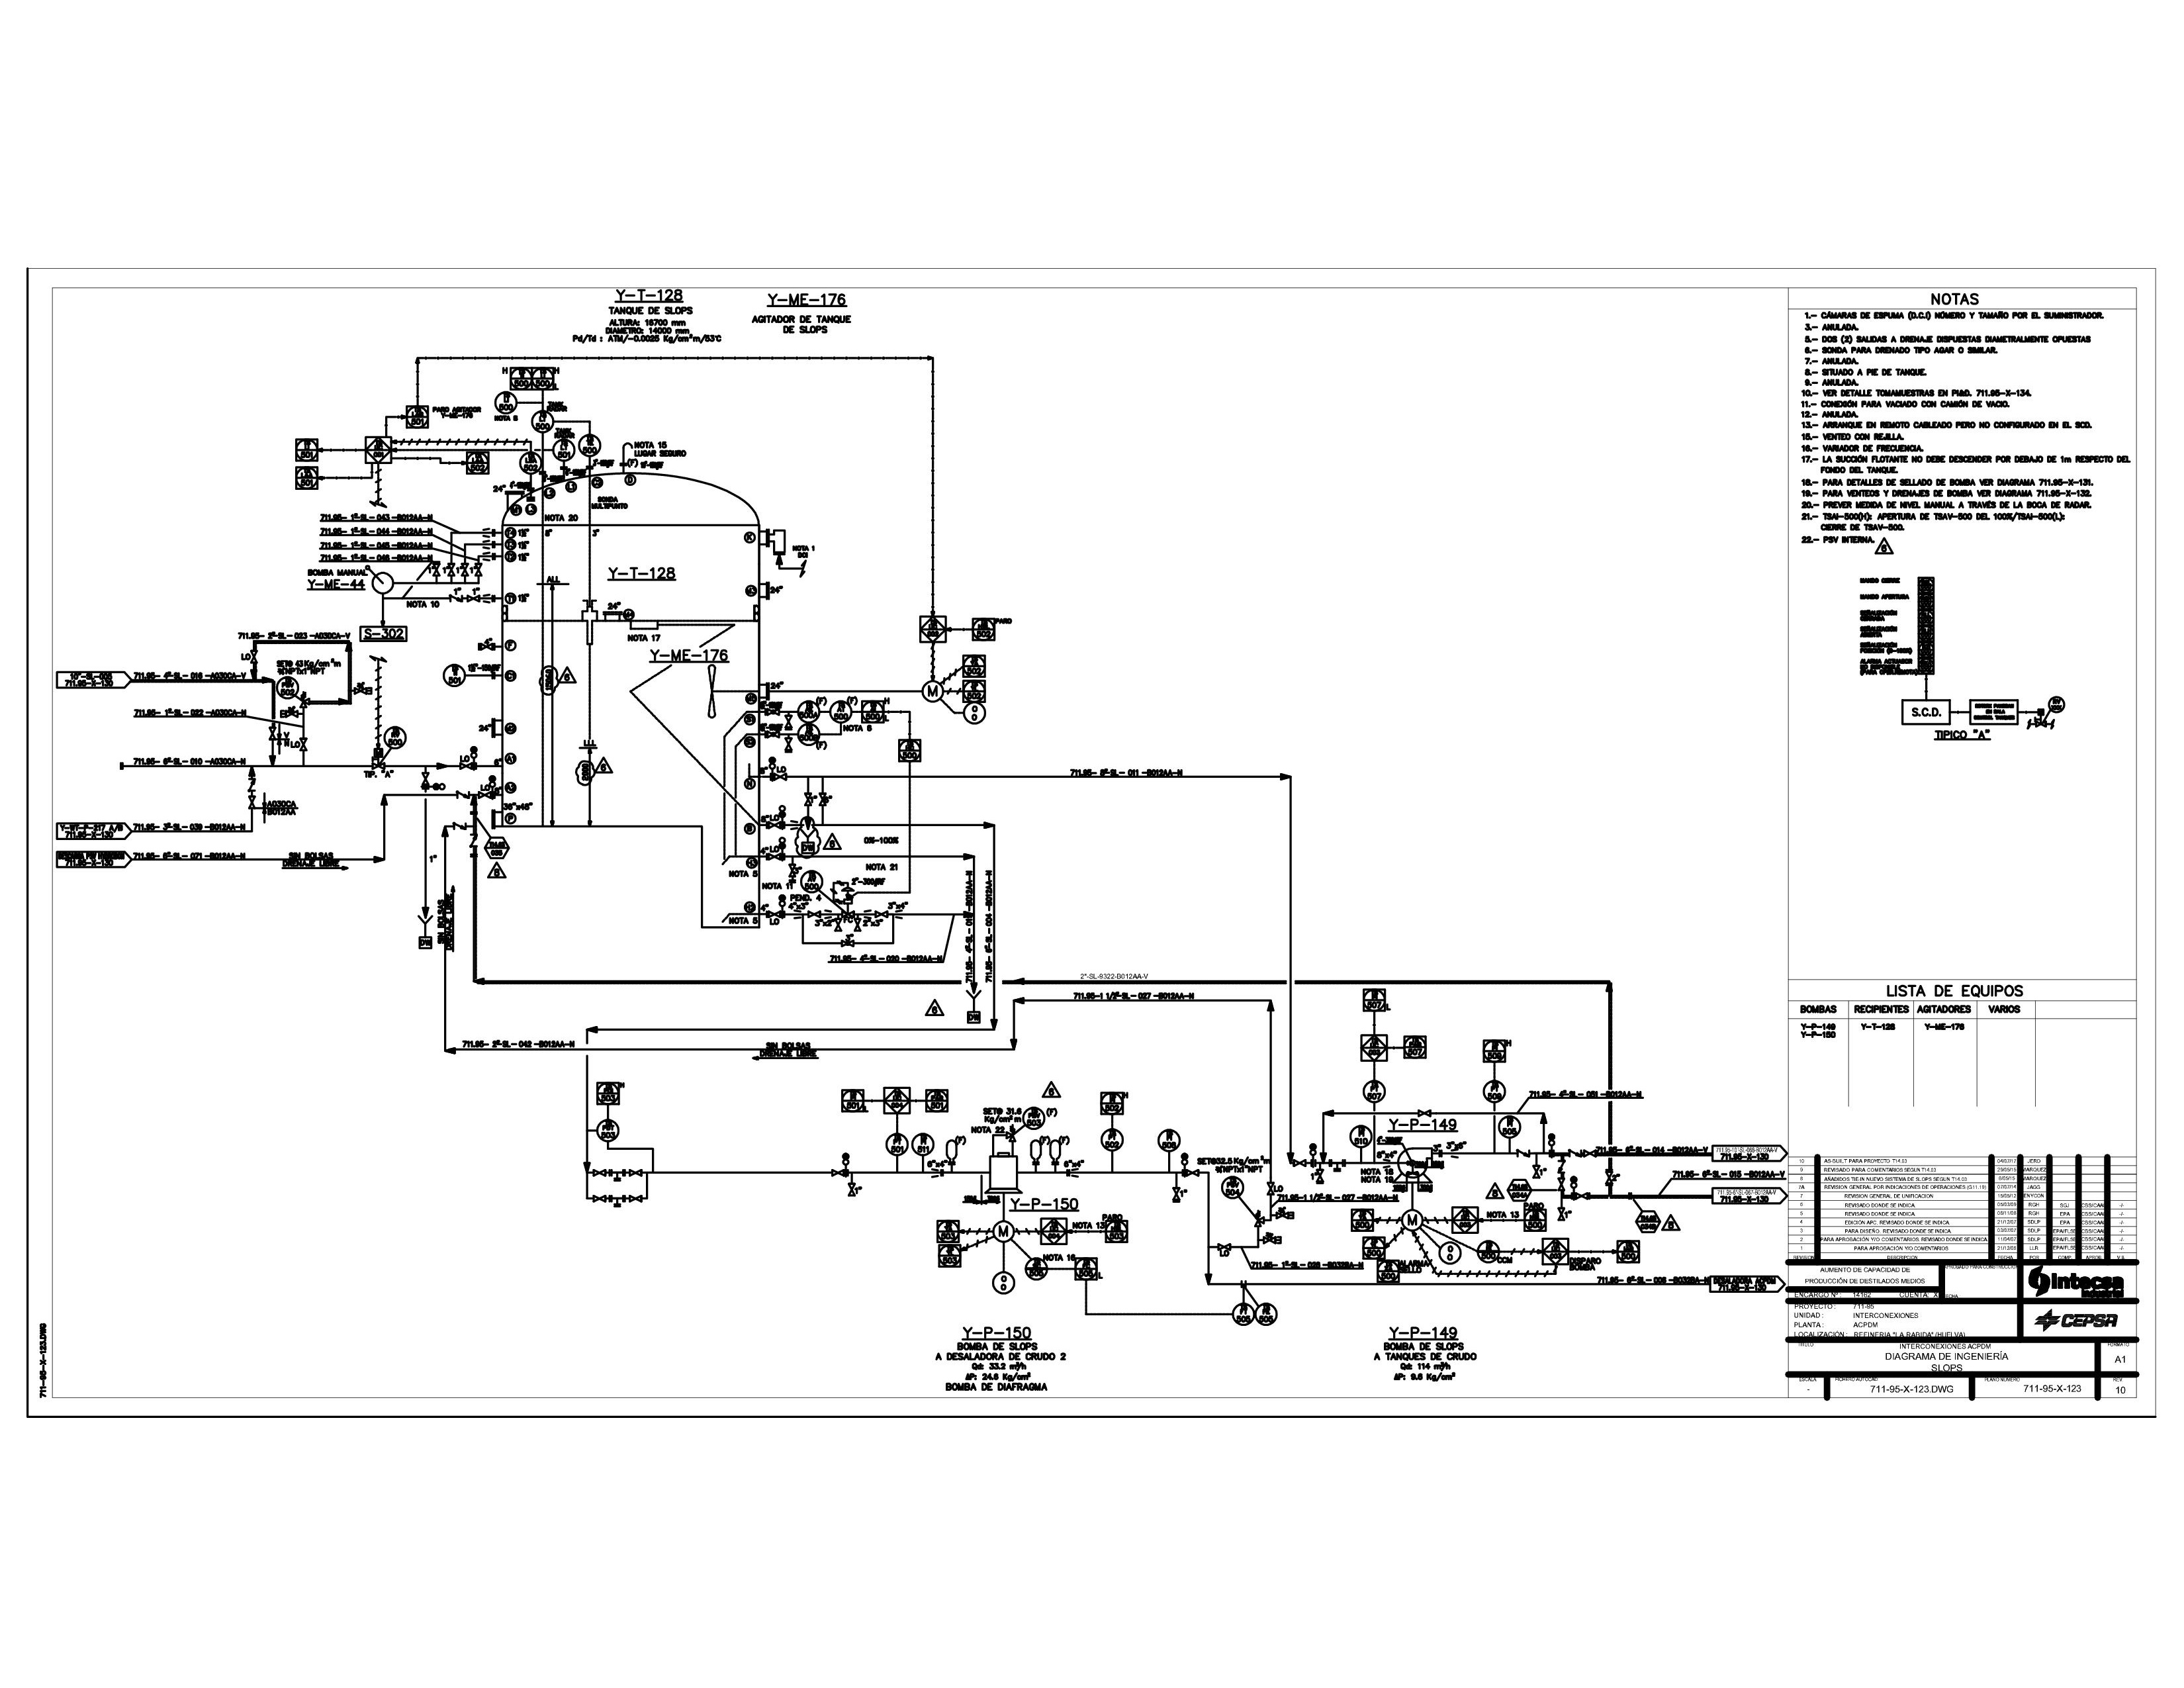Inline Instrument: (493, 390, 519, 415), (530, 410, 557, 434), (576, 433, 603, 457), (441, 663, 468, 688), (911, 1131, 936, 1156), (1158, 1128, 1182, 1153), (1099, 1128, 1126, 1151), (1496, 1115, 1523, 1138), (1361, 1080, 1388, 1103), (596, 1119, 622, 1142), (1023, 1257, 1049, 1280), (385, 727, 409, 750), (885, 1133, 909, 1156), (1221, 1176, 1246, 1199), (1482, 1080, 1507, 1103), (1349, 1124, 1374, 1147)
Panel Instrument: (970, 615, 998, 644), (961, 651, 989, 679), (838, 1087, 867, 1115), (1482, 1037, 1510, 1066), (1521, 1204, 1549, 1232), (292, 436, 321, 463), (363, 436, 392, 463), (404, 404, 433, 431), (292, 465, 321, 491), (463, 449, 491, 475), (895, 738, 924, 764), (922, 1087, 950, 1114), (1097, 1089, 1126, 1115), (1360, 988, 1388, 1014), (1400, 1035, 1429, 1062), (1615, 1238, 1643, 1264), (1349, 1206, 1377, 1232), (596, 1080, 624, 1106), (934, 1220, 963, 1246), (1374, 1259, 1402, 1286)
